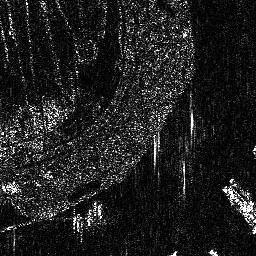ship: (218, 184, 256, 231)
